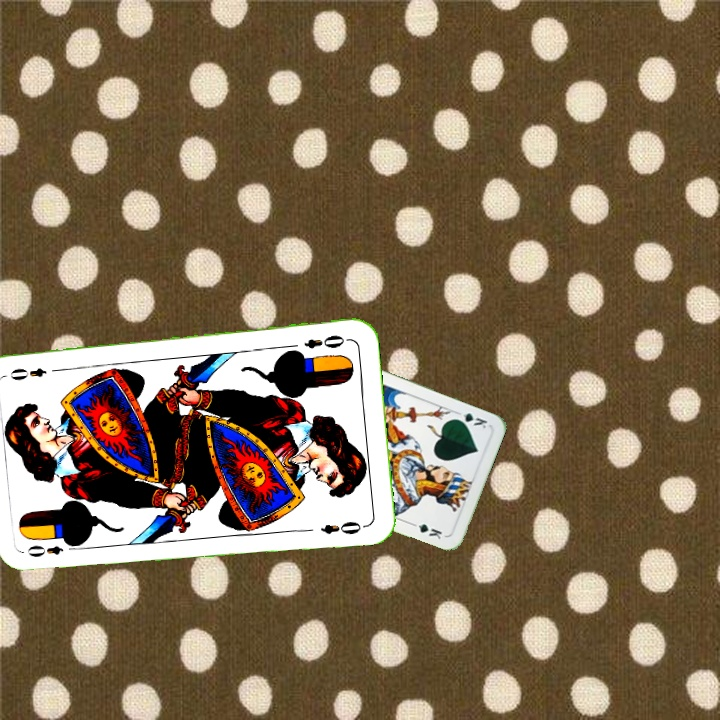EO: (22, 538, 81, 560), (300, 331, 352, 352)
GK: (450, 407, 490, 431)
